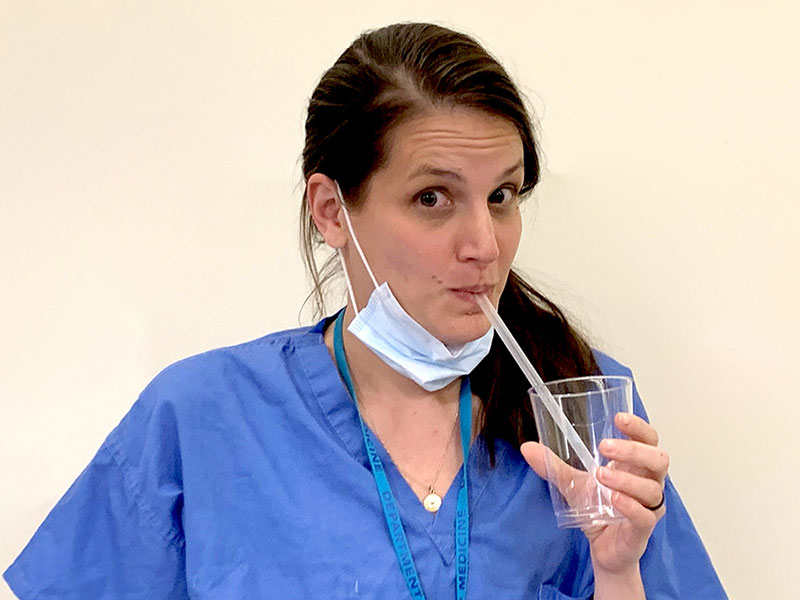mask_weared_incorrect: (350, 157, 528, 377)
